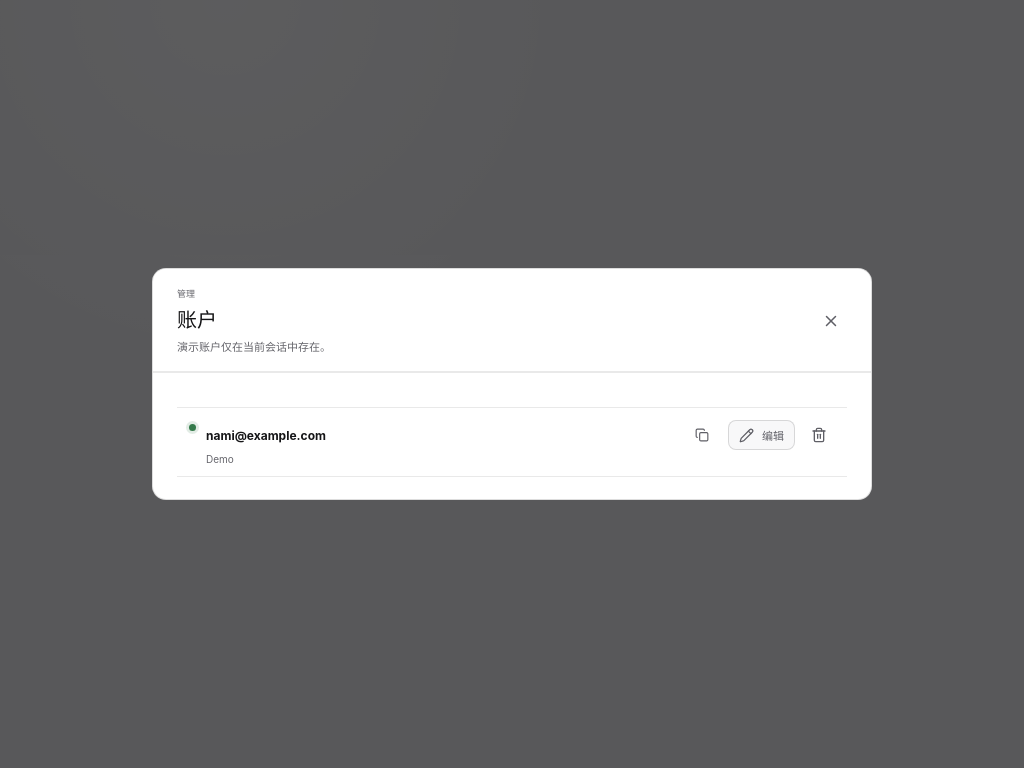
account address copy button › shows an error if the address cannot be copied
Step 1. Click the button with class "accounts-copy-address" → (702, 435), box [686,419,718,451]
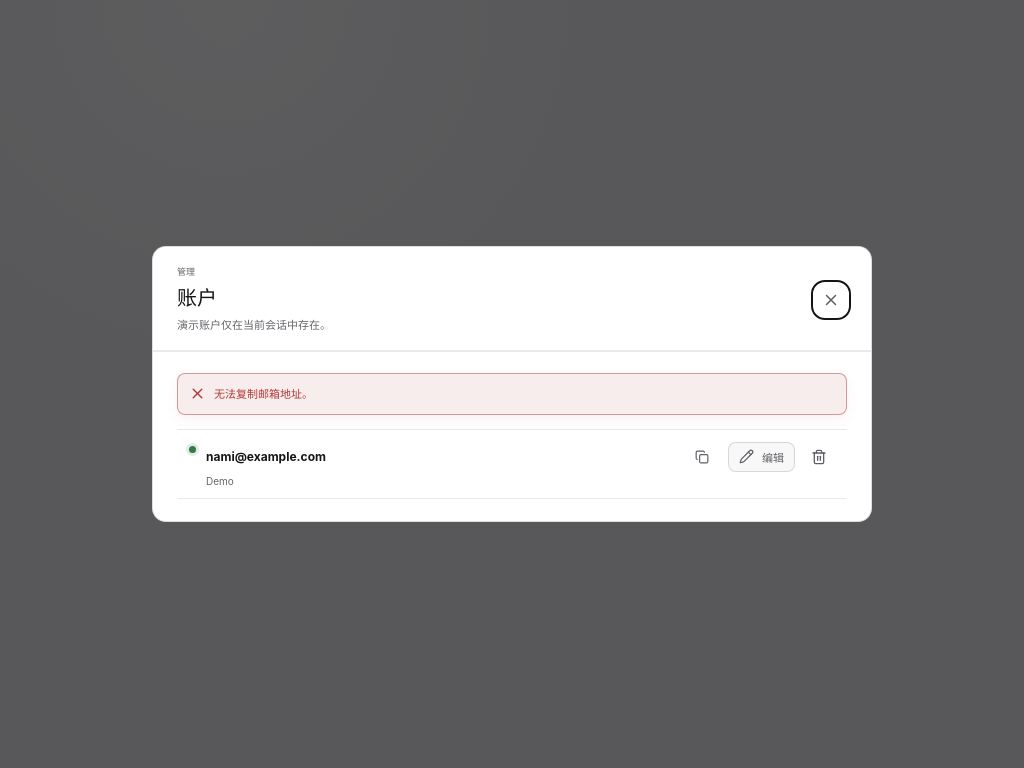
expect the message "无法复制邮箱地址。" is shown: met, box [177,373,847,415]
